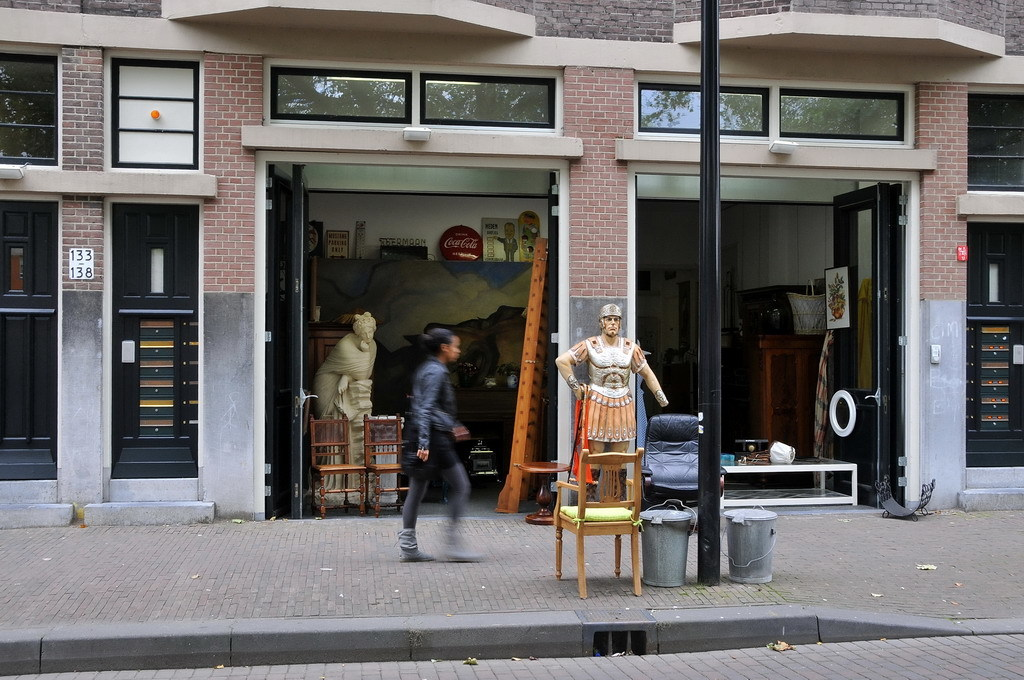Door: (812, 182, 881, 503), (283, 171, 329, 526), (0, 203, 54, 480)
